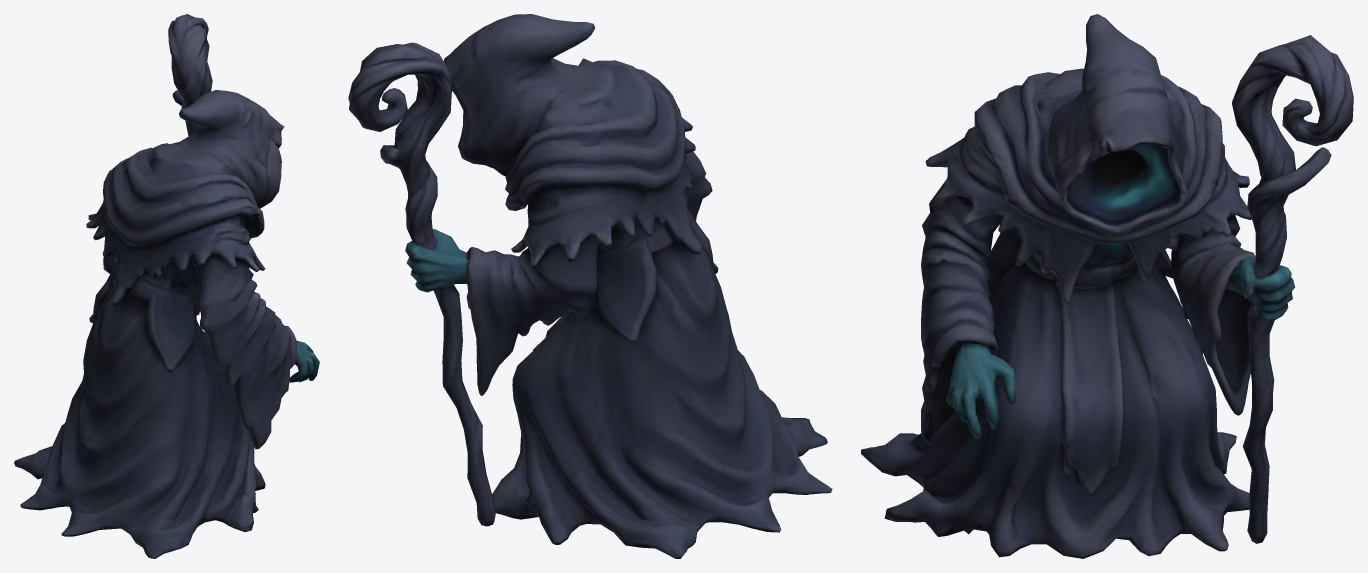
The model's file is sacolyte.glb.
3 renders of one model, left to right at view 1: azimuth 30°, elevation 25°; view 2: azimuth 150°, elevation 25°; view 3: azimuth 270°, elevation 25°, orthographic. The views are drawn at different scales.
Visible parts, largest first — view 1: tripo_node_74214dcd-47a1-471c-891b-bec782267346; view 2: tripo_node_74214dcd-47a1-471c-891b-bec782267346; view 3: tripo_node_74214dcd-47a1-471c-891b-bec782267346.
Boxes of the visible parts, <box> form: tripo_node_74214dcd-47a1-471c-891b-bec782267346: <box>14,14,319,558</box>; tripo_node_74214dcd-47a1-471c-891b-bec782267346: <box>348,14,832,558</box>; tripo_node_74214dcd-47a1-471c-891b-bec782267346: <box>861,14,1353,558</box>.
Bounding box in the file's own units: 0.7027 × 0.9785 × 0.8061.
1 material, 1 textured.
